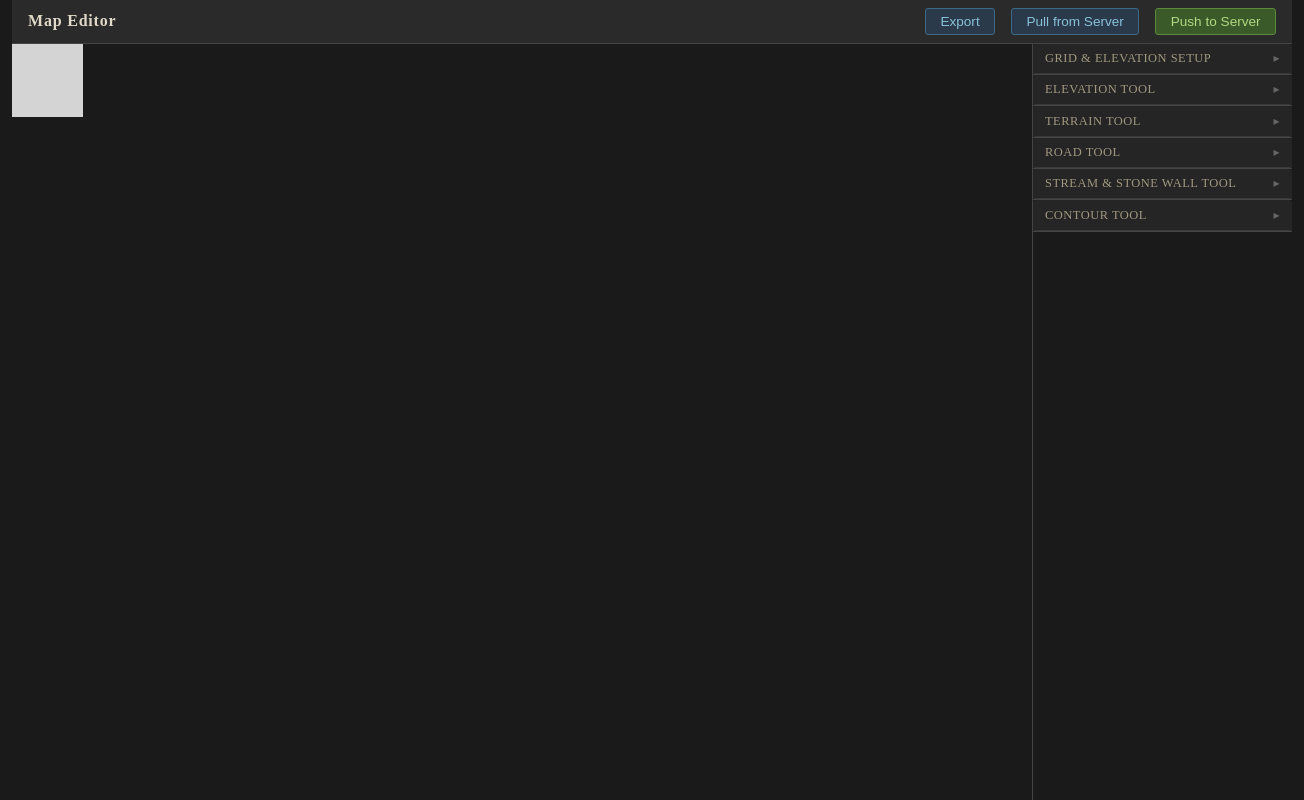
Test: MapEditorView › opening Terrain Tool accordion renders TerrainToolPanel
What coordinates should you click on to do the following:
click the button with class "accordion-header" showing "Terrain Tool ▸"
I would click on:
 (1162, 122)
Its box is [1033,106,1292,137].
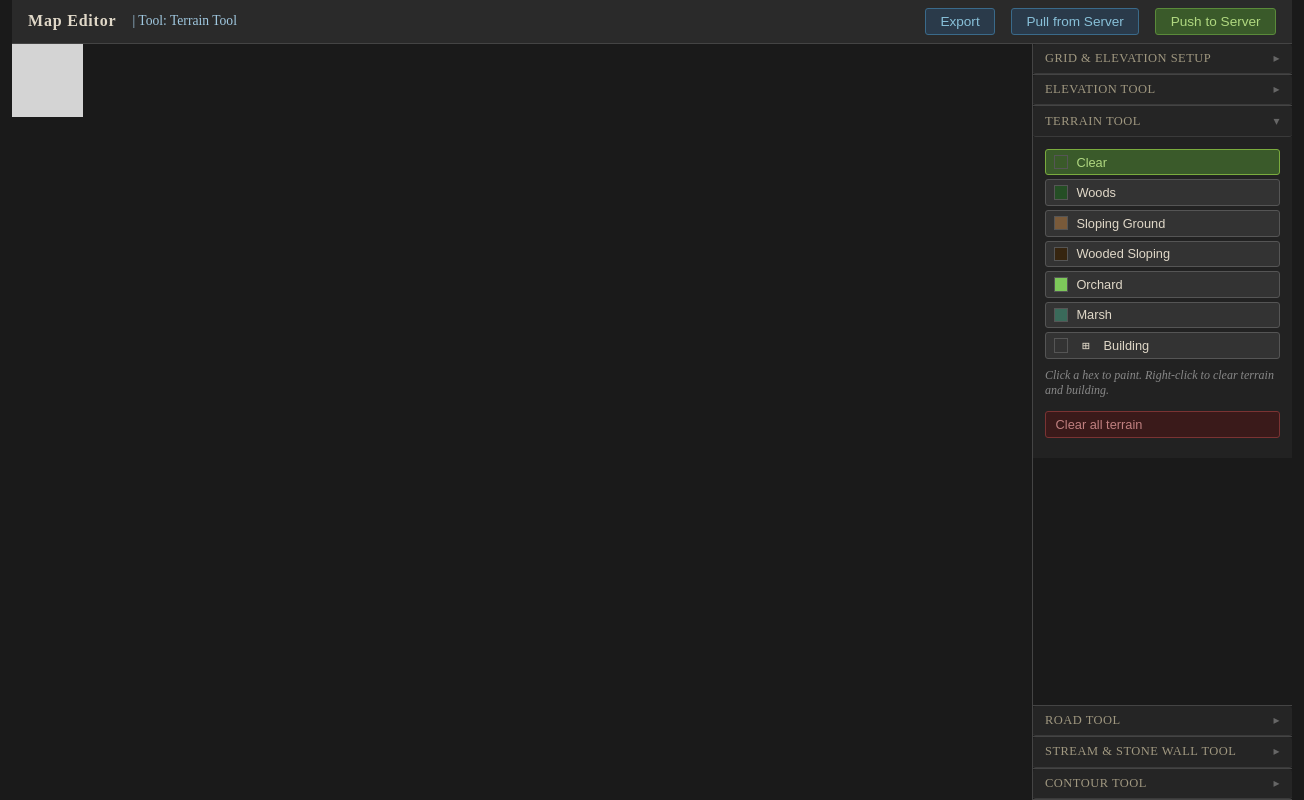
Check: the text "Clear all terrain" is shown, box [1045,411,1280,438]
